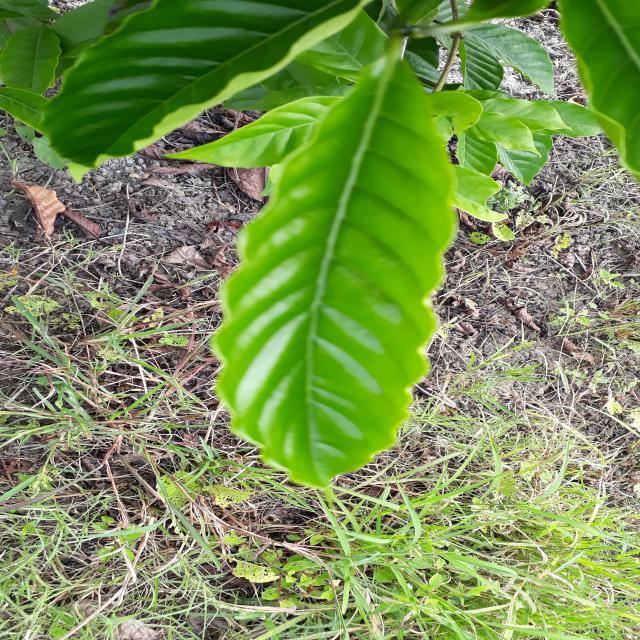Sanas: (210, 56, 457, 490)
